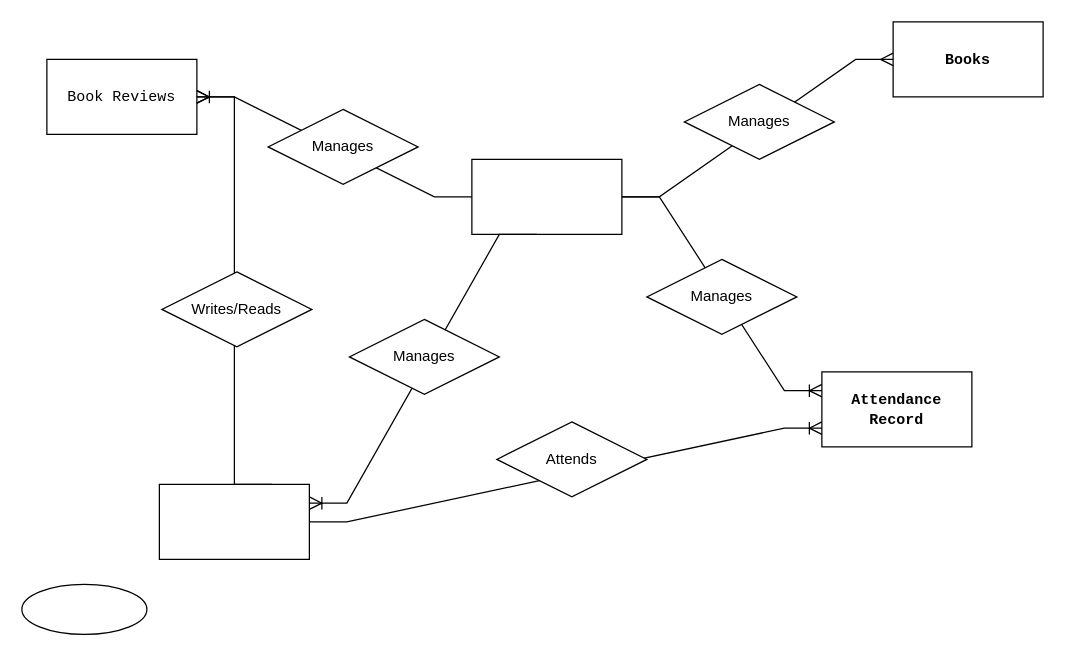
Image size: 1065x656. Some labels were removed from this diagram. Here are the shapes that lost their labels. From the top down, the centre of each, then its label:
point 546,196: Library Admin
point 233,521: Library User
point 84,608: id_num
